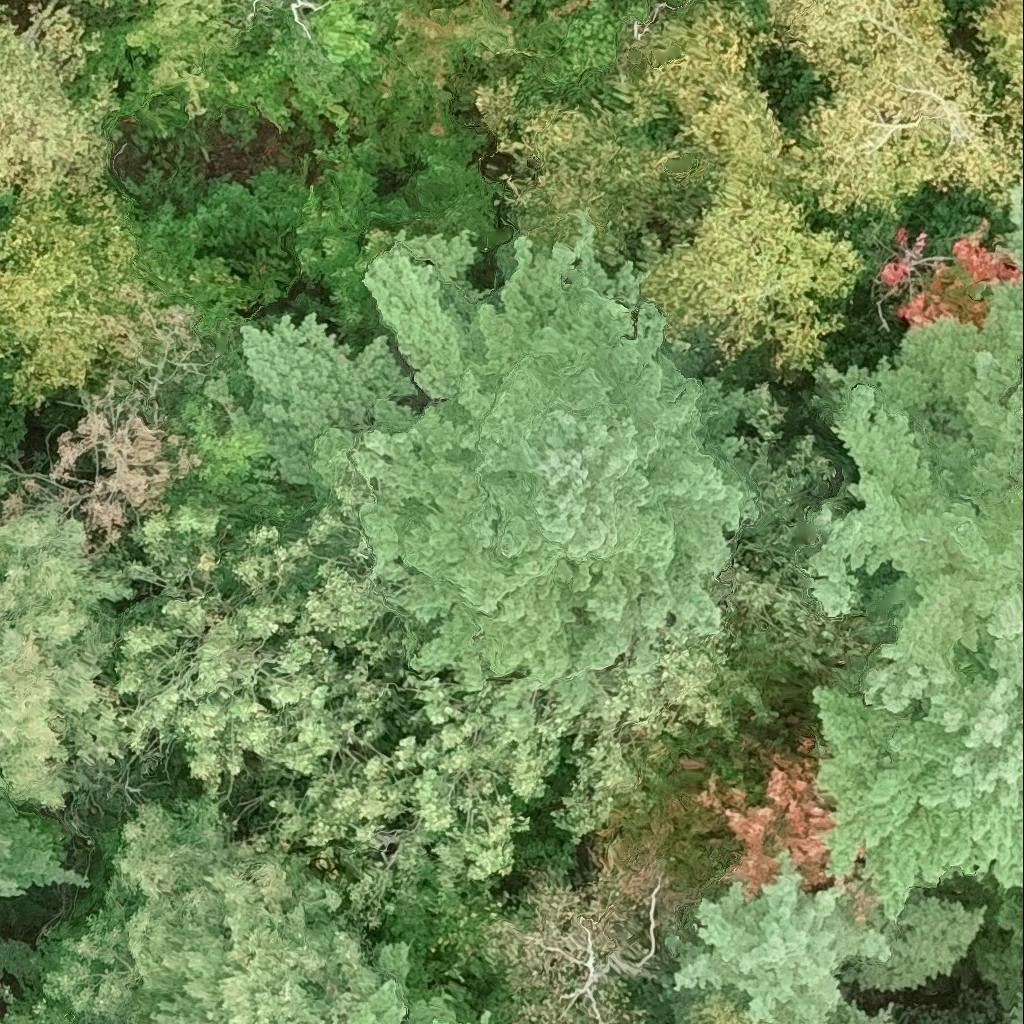crown: (253, 227, 751, 730), (112, 495, 557, 904), (485, 0, 866, 367), (813, 278, 1023, 709), (10, 799, 407, 1023), (814, 632, 1023, 919), (62, 0, 399, 140), (0, 508, 137, 813), (792, 38, 1023, 214), (674, 852, 889, 1023), (0, 191, 138, 407), (346, 0, 515, 173), (481, 870, 653, 1023), (684, 732, 837, 900), (474, 0, 698, 114), (0, 4, 112, 202), (771, 0, 947, 86), (0, 780, 88, 894), (969, 0, 1023, 85), (347, 984, 457, 1023), (673, 983, 753, 1023), (820, 994, 893, 1023), (1003, 193, 1023, 267), (0, 185, 26, 232), (722, 0, 775, 23), (90, 0, 149, 11), (291, 0, 318, 22), (679, 0, 705, 13), (0, 466, 11, 490), (766, 1022, 776, 1023), (786, 1022, 793, 1023), (261, 0, 268, 1)
